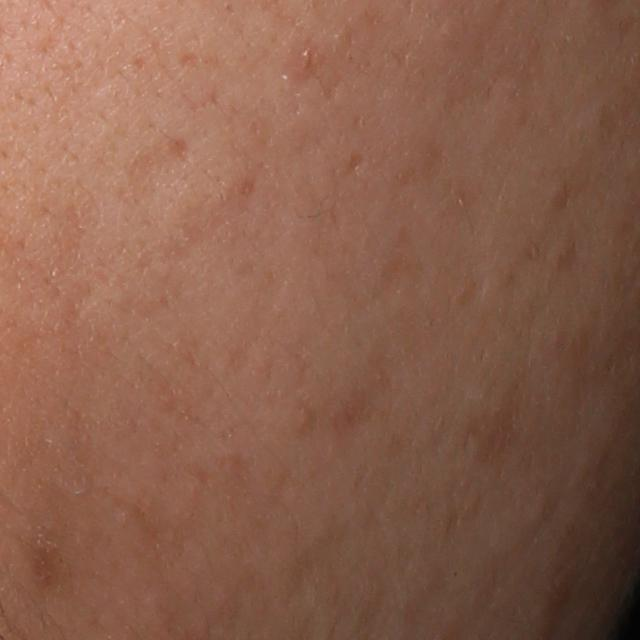atrophic_scar: (343, 149, 363, 177)
comedo: (295, 407, 313, 429)
